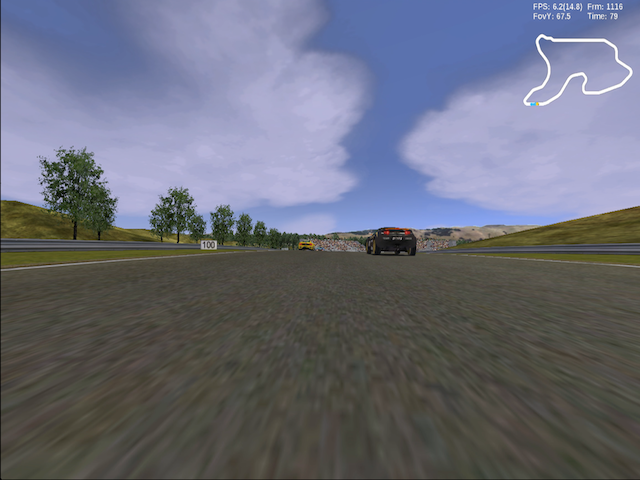Cavallo360: (298, 241, 315, 251)
Spirit300: (364, 227, 417, 256)
